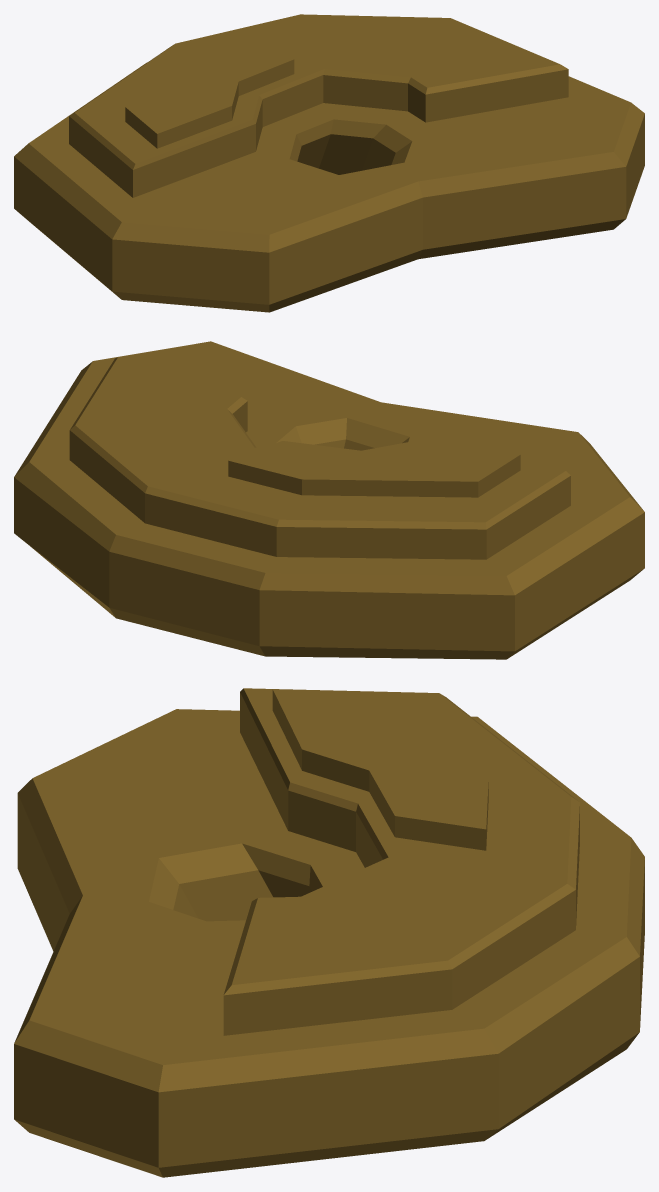
File: desert_rock_holed_1.fbx
3 views of the same model, one above another, from view 1: azimuth 30°, elevation 25°; view 2: azimuth 150°, elevation 25°; view 3: azimuth 270°, elevation 25° (orthographic). The views are drawn at different scales.
Visible parts, largest first — view 1: desert_rock_holed_1; view 2: desert_rock_holed_1; view 3: desert_rock_holed_1.
Part boxes in pixels (x1,y1,x2,y2): desert_rock_holed_1: (14, 14, 644, 312); desert_rock_holed_1: (14, 341, 644, 659); desert_rock_holed_1: (14, 688, 644, 1177).
Size of the model in its own units: 14.7 by 10.51 by 3.32.
